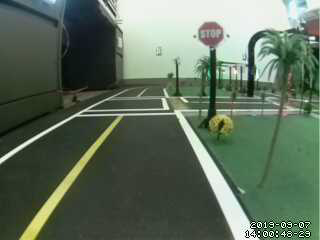Stop_Sign: (192, 17, 233, 54)
